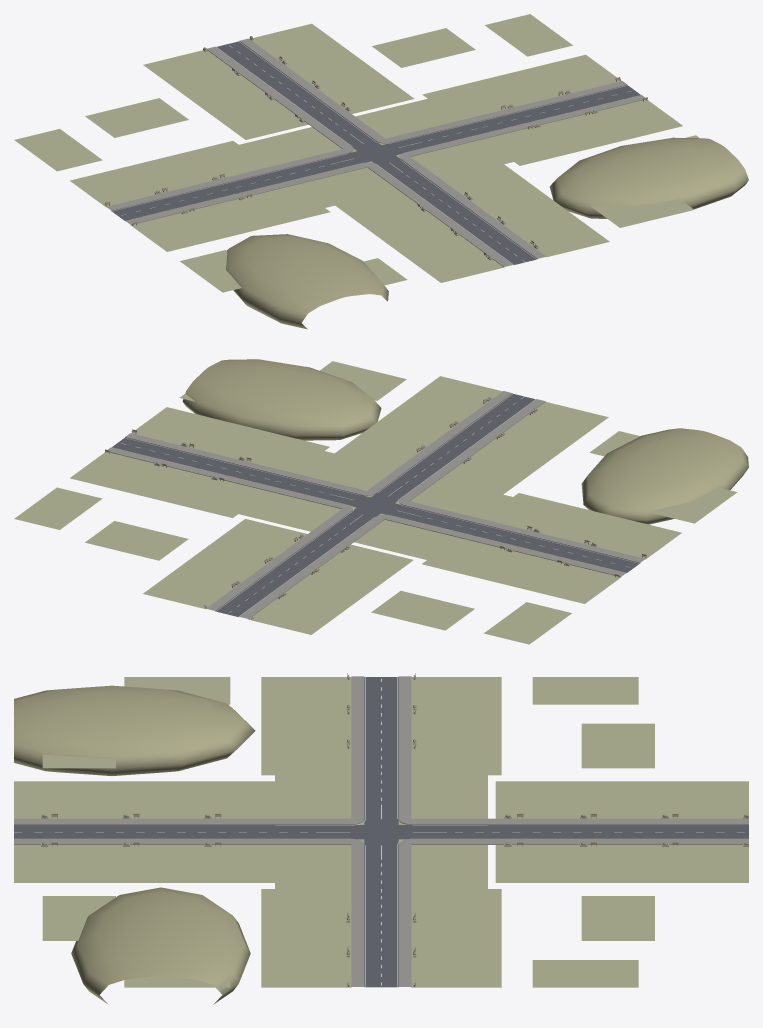
3 views of the same model, one above another, from view 1: azimuth 30°, elevation 25°; view 2: azimuth 150°, elevation 25°; view 3: azimuth 270°, elevation 25° (orthographic). The views are drawn at different scales.
Parts seen in each view (by area): view 1: static; view 2: static; view 3: static.
Part boxes in pixels (x1,y1,x2,y2): static: (14,14,748,329); static: (14,359,748,644); static: (14,673,748,1003).
Size of what is drawn, in the model's own units: 180 by 14.08 by 180.
